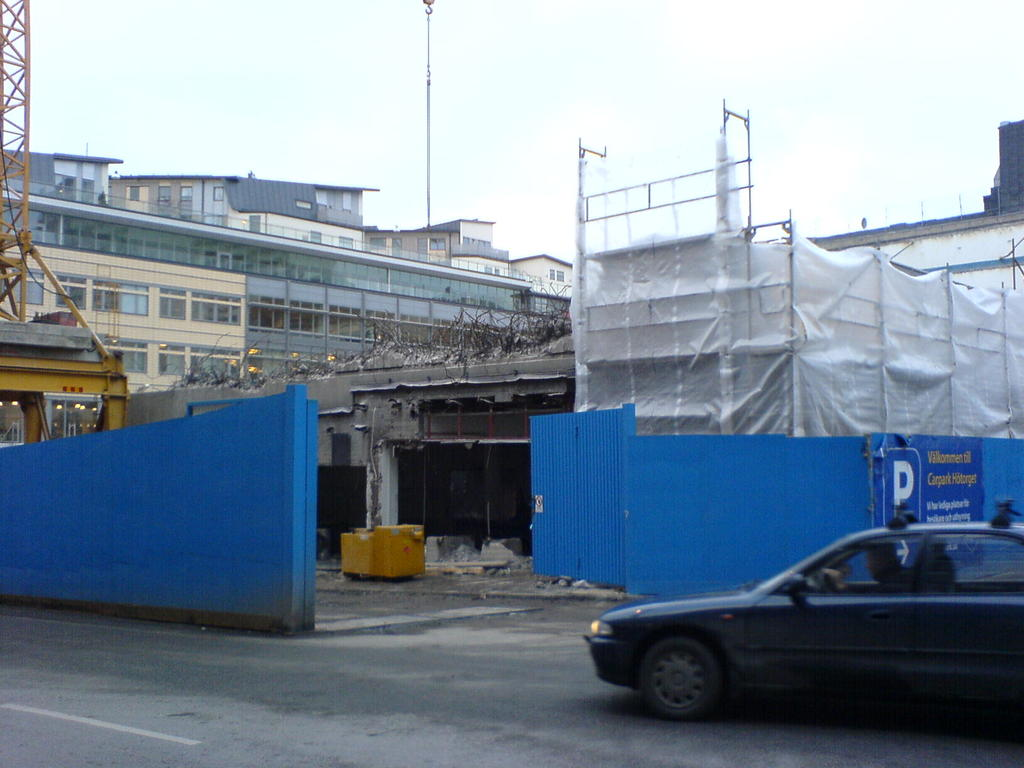Car: (568, 511, 1024, 734)
